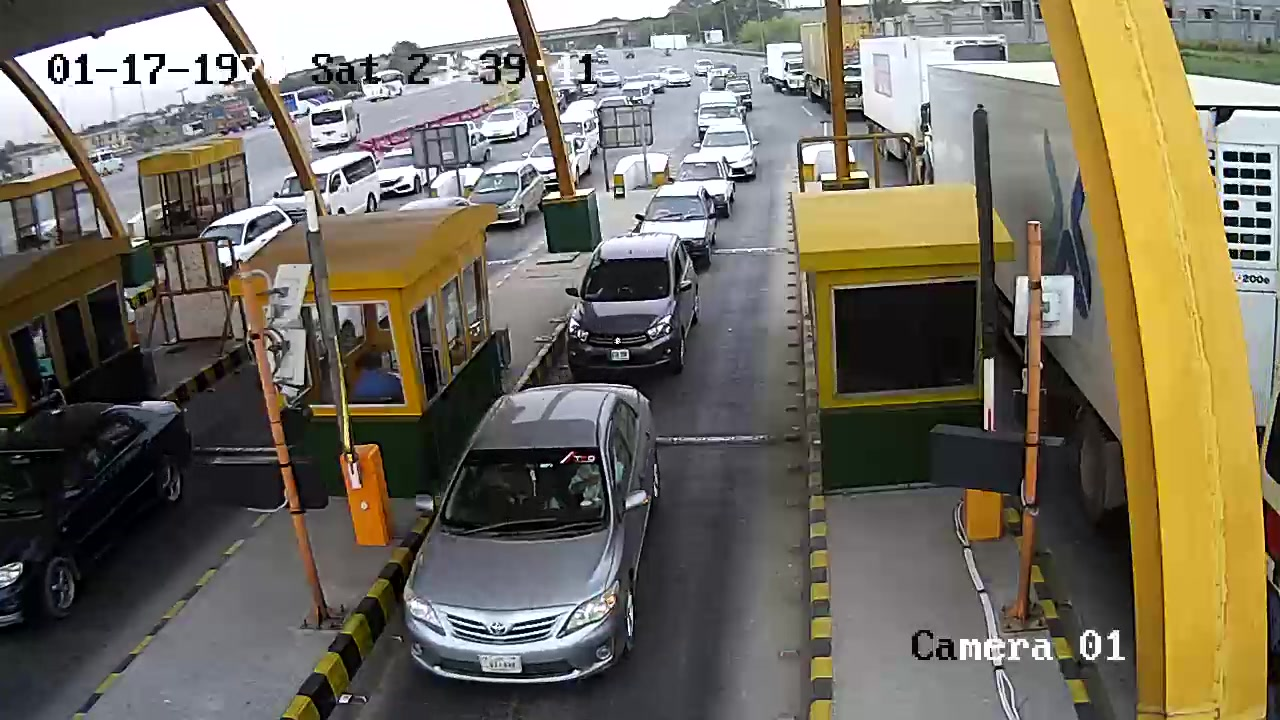F1: (387, 383, 709, 688), (552, 232, 723, 378)
